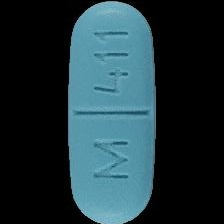60429-199: (0, 0, 224, 224)
